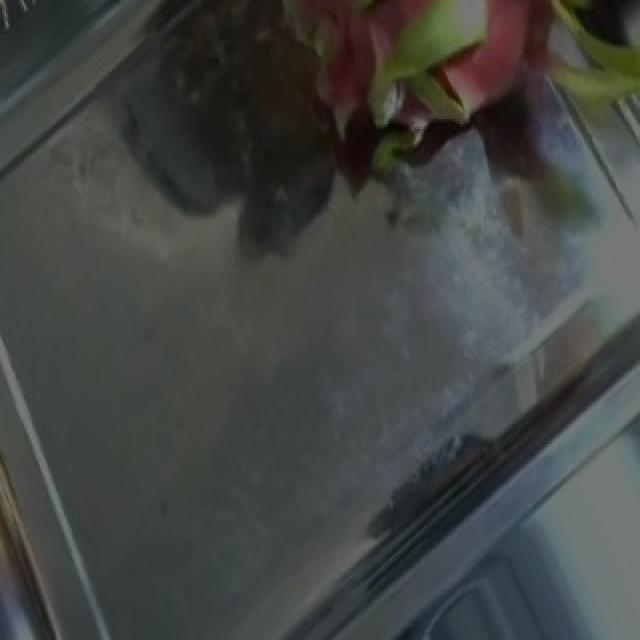fruit: (222, 0, 638, 278)
